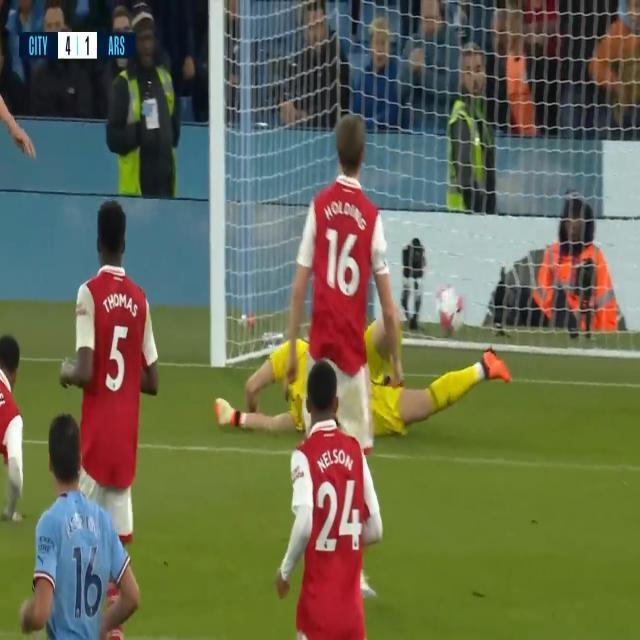ball: (427, 259, 472, 346)
goalkeeper: (202, 295, 511, 454), (342, 329, 459, 427)
player: (59, 156, 161, 525), (265, 369, 394, 640), (12, 407, 147, 640), (279, 81, 380, 383)
